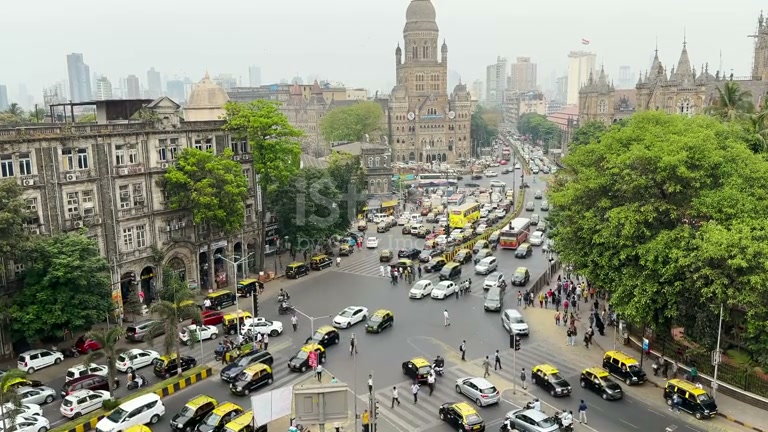car: (94, 392, 166, 432), (220, 350, 275, 395), (499, 402, 567, 432), (169, 394, 217, 432), (196, 401, 254, 432), (579, 366, 624, 401), (438, 400, 486, 432), (59, 390, 108, 420), (530, 363, 572, 398), (455, 376, 500, 408), (114, 348, 162, 374), (17, 349, 64, 373), (287, 345, 324, 373), (11, 385, 57, 406), (243, 316, 283, 338), (333, 305, 368, 329), (500, 308, 530, 336), (366, 307, 394, 334), (312, 325, 340, 348), (430, 280, 458, 300), (474, 255, 498, 275), (409, 279, 433, 299), (483, 288, 502, 312), (514, 243, 533, 259)
pedestrian: (578, 399, 589, 424)
truck: (663, 378, 718, 419)
